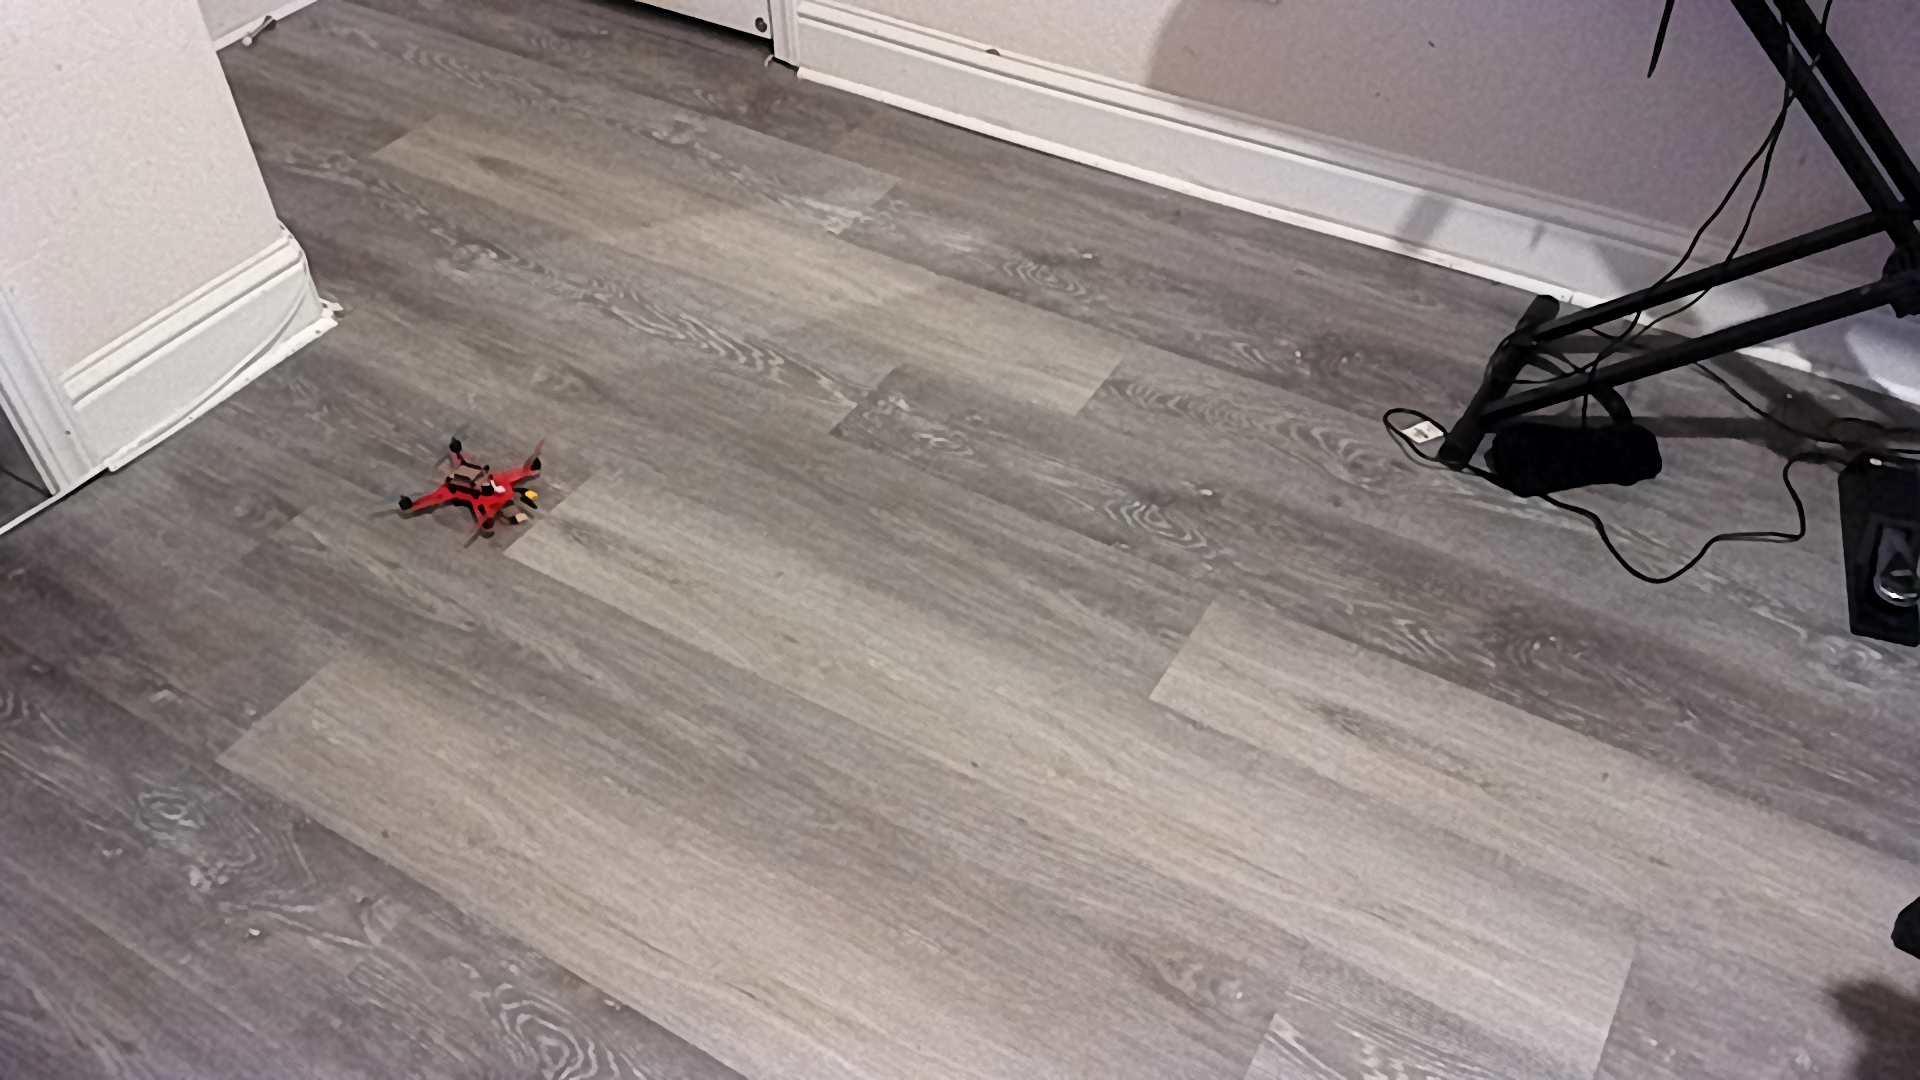drone: (371, 418, 597, 564)
